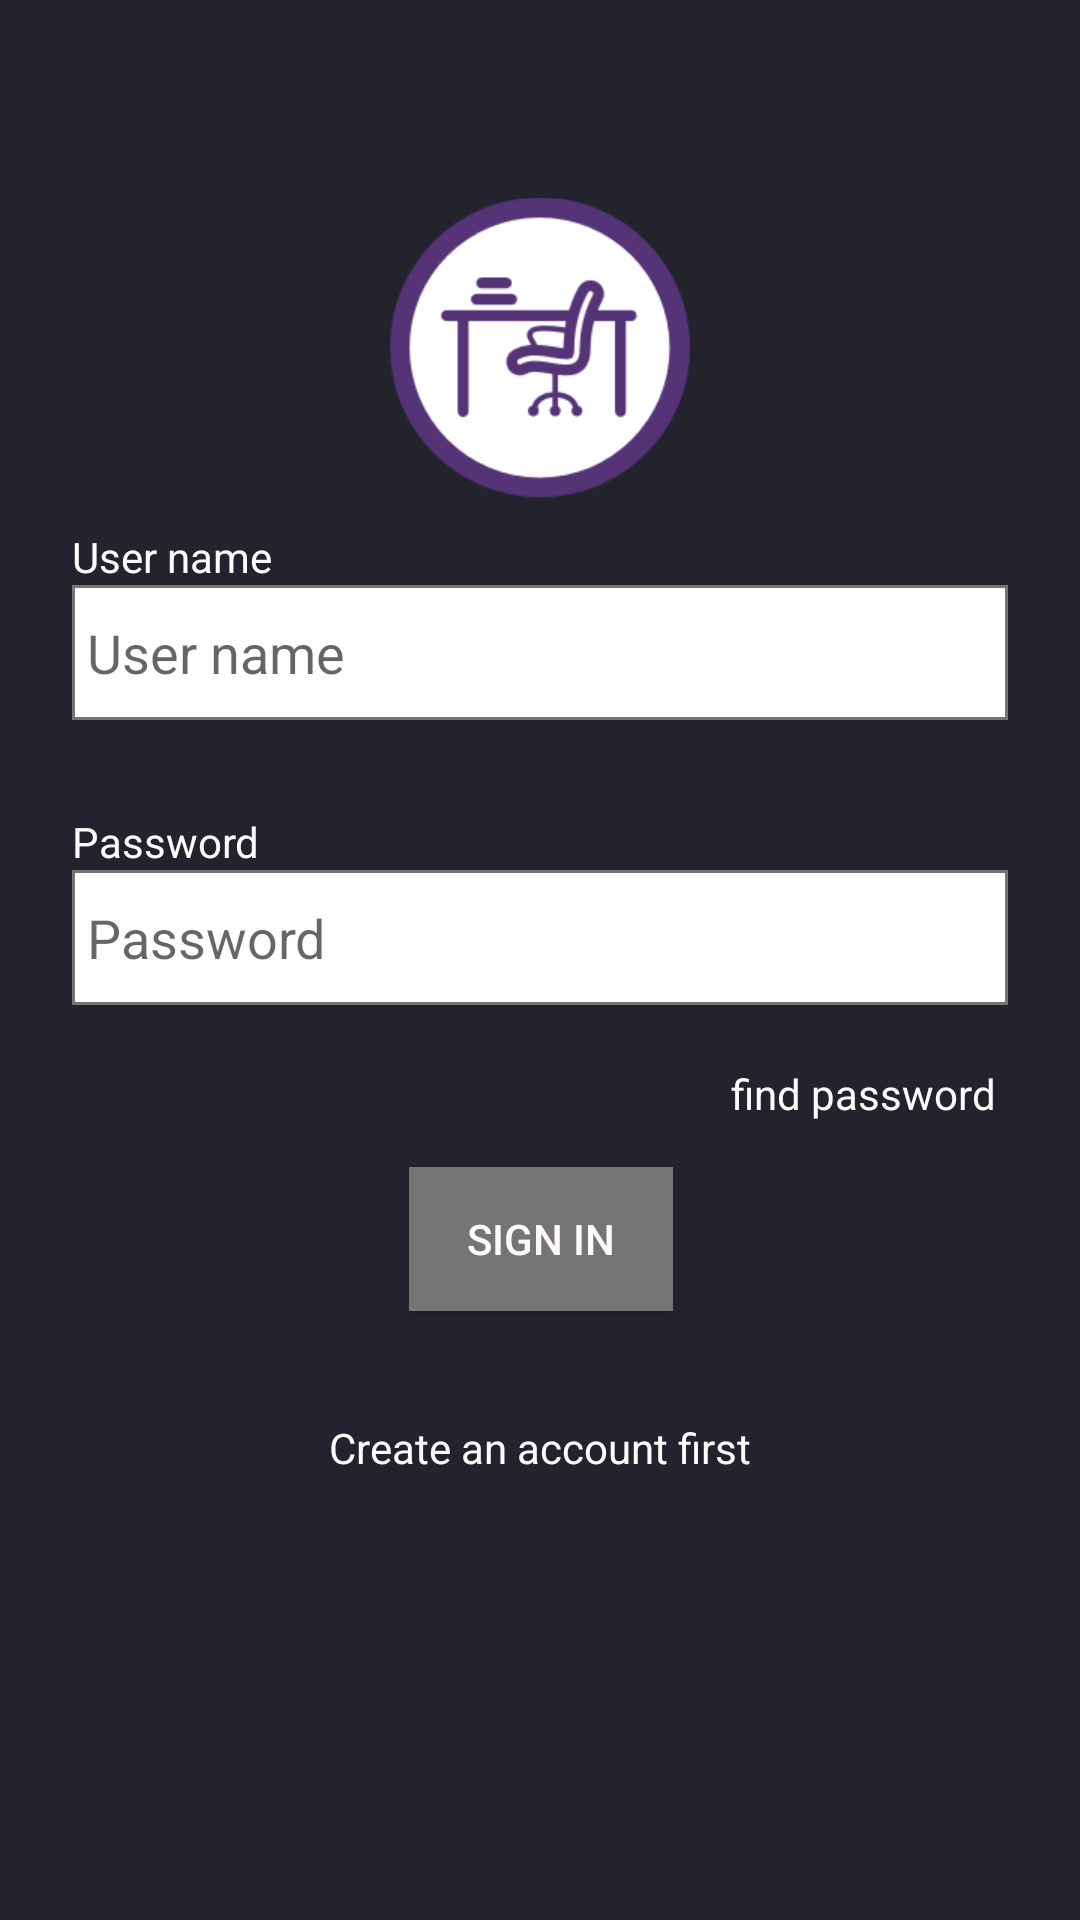

Named icons in this screenshot (1080*1920) and their centers, (x,y):
booking: (540,348)
